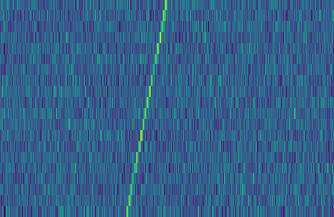signal: (120, 0, 171, 217)
